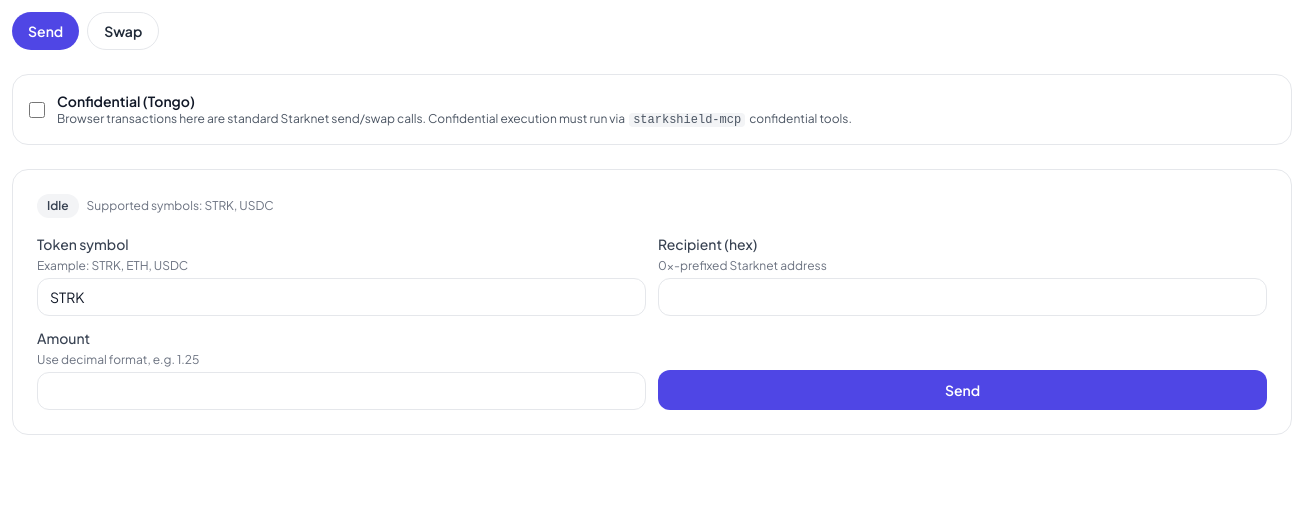
TransactPage validation › requires amount for swap flow
Click the button "Swap": (123, 31) [87, 12, 159, 50]
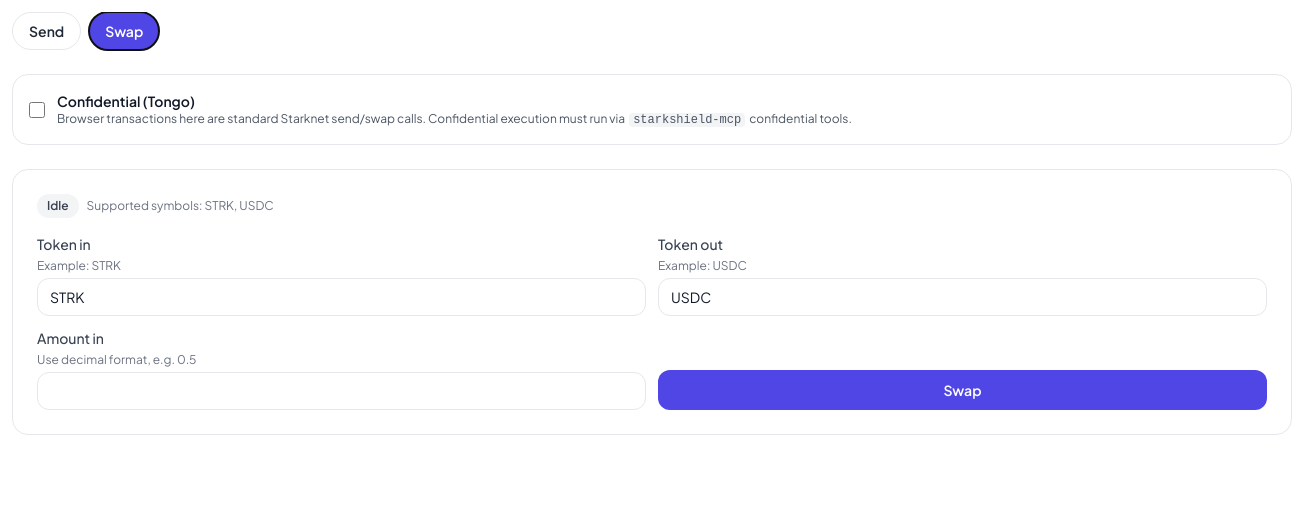
Click the button "Swap" below "Example: USDC": (962, 390) [658, 370, 1267, 410]
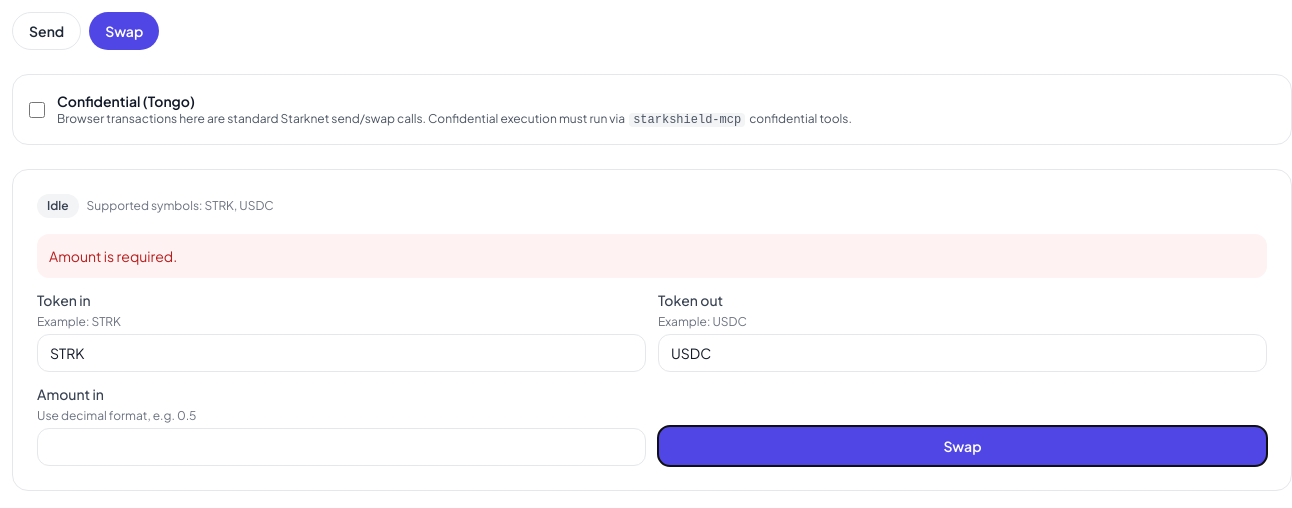
Now the text "Amount is required." is shown, box [37, 234, 1267, 278]
